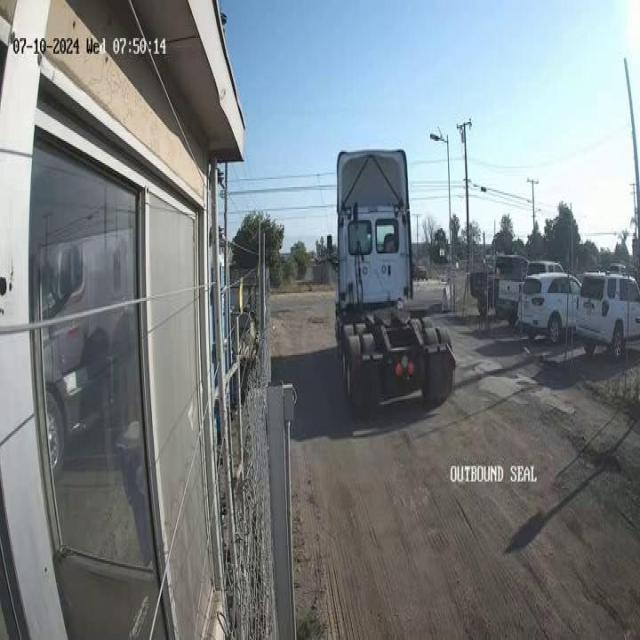BOBTAIL: (326, 148, 456, 414)
